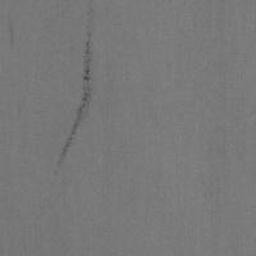Inclusion: (51, 28, 95, 177)
